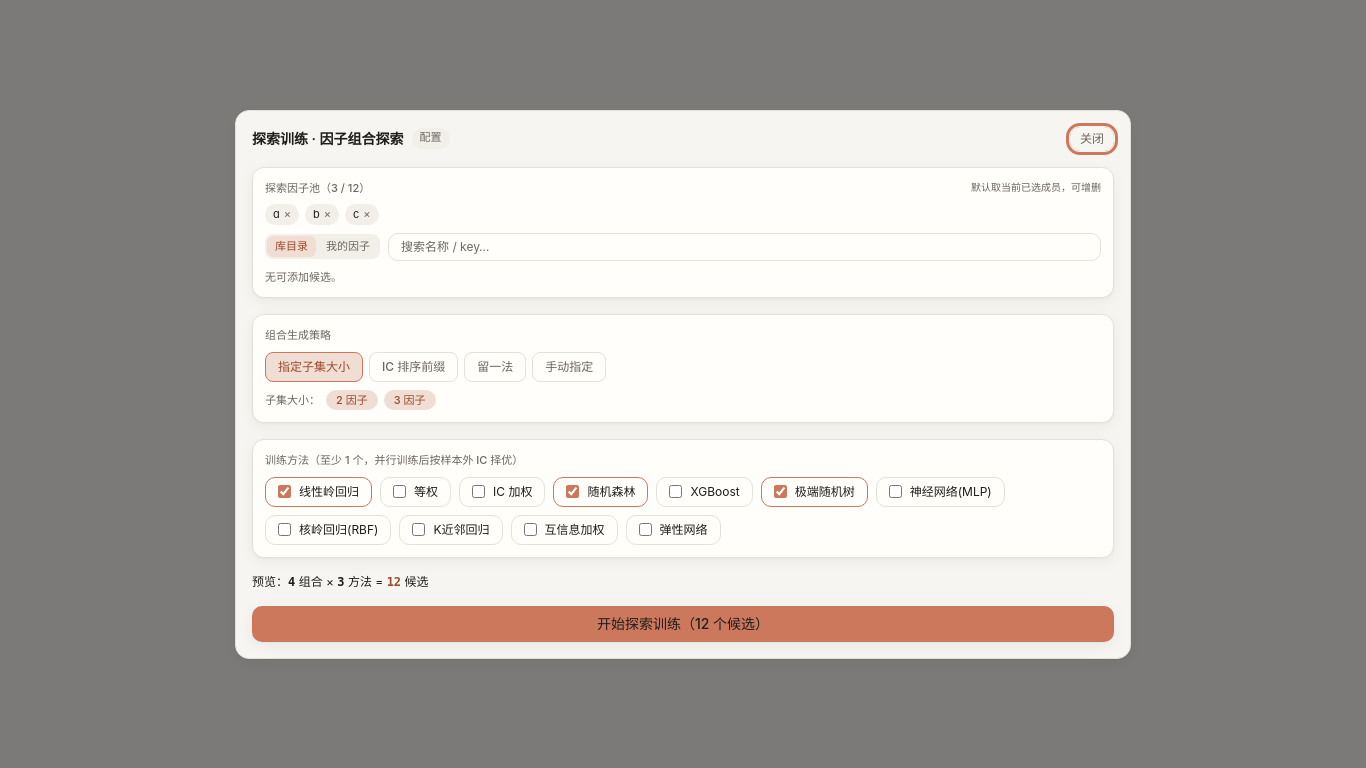
Scenario: WeightExploreModal › blocks launch when no training method is selected
This screenshot has width=1366, height=768.
Check: the button "开始探索训练（12 个候选）" is shown, box left=252, top=606, right=1114, bottom=642
Click the checkbox labelled "线性岭回归": click(284, 492) left=278, top=485, right=291, bottom=498
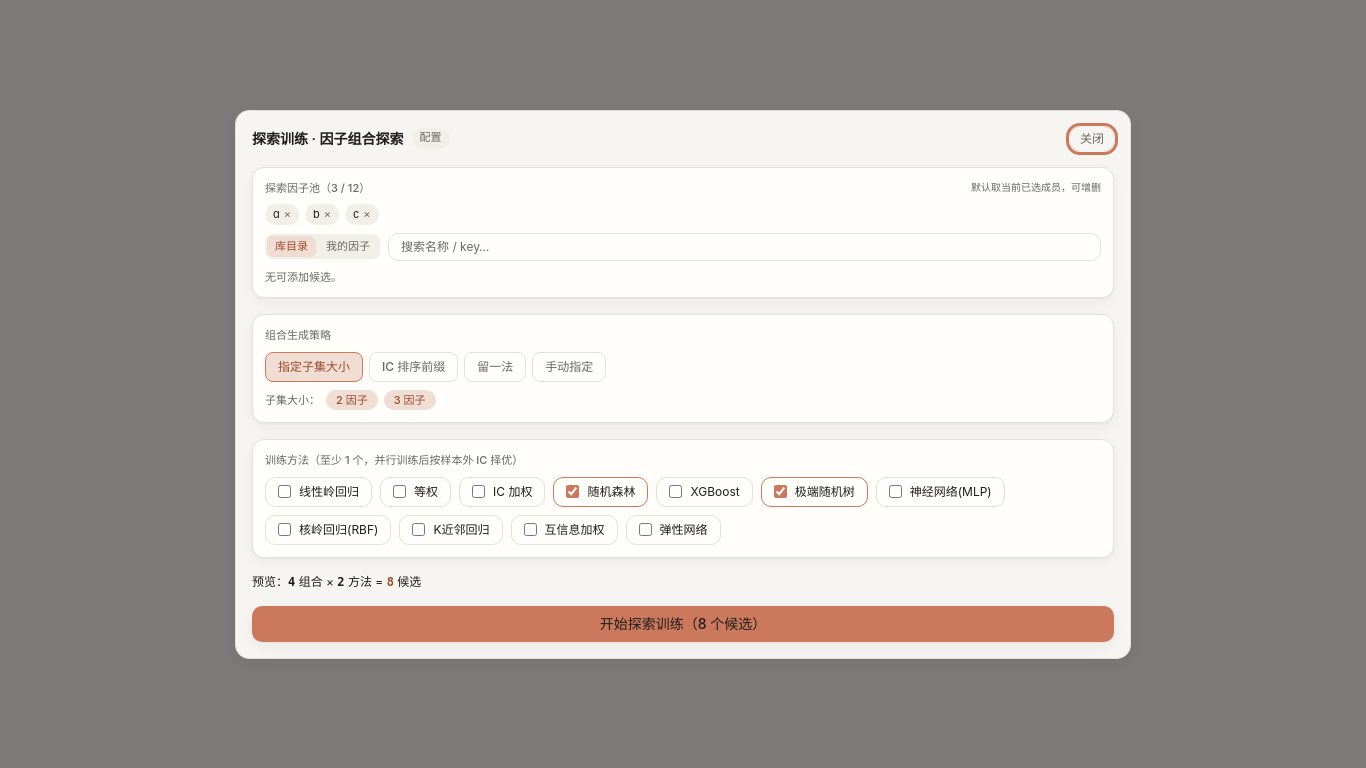
Click the checkbox labelled "随机森林": click(573, 492) left=566, top=485, right=579, bottom=498
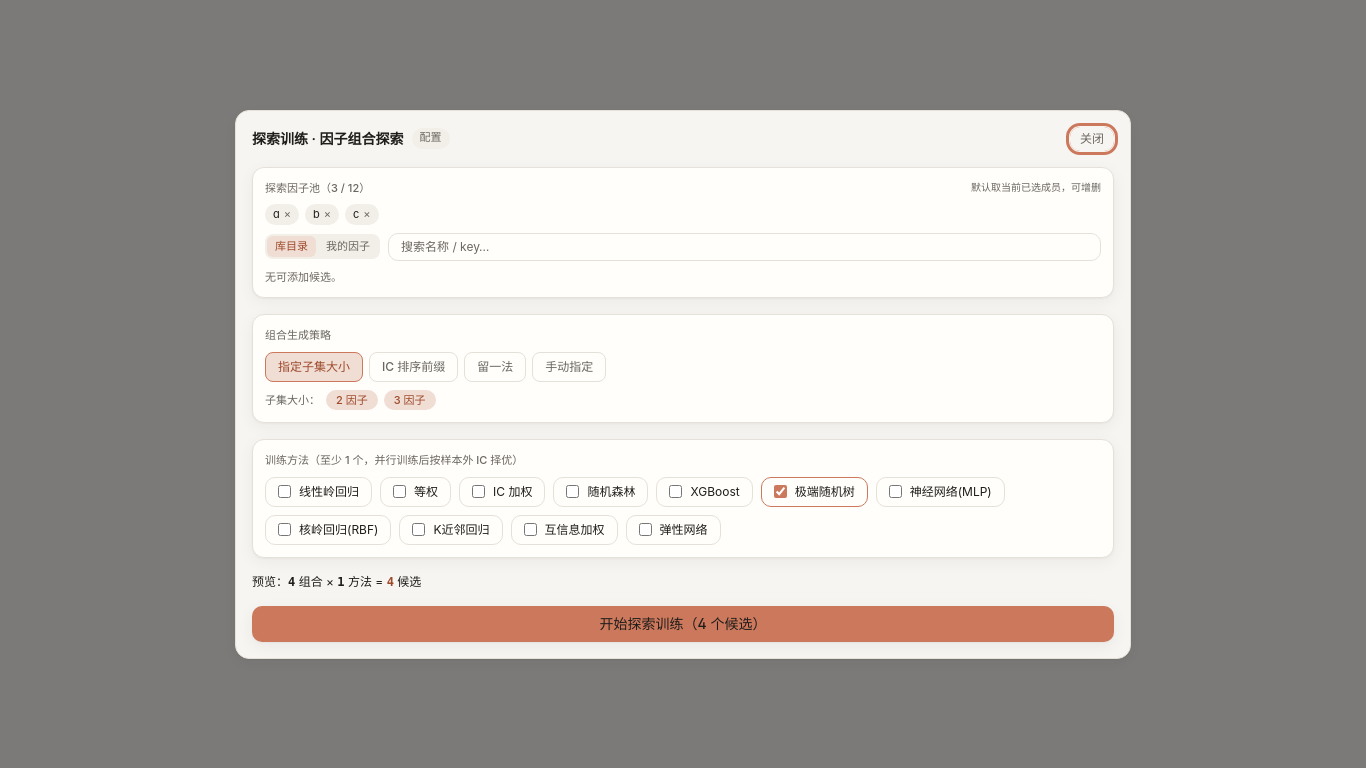
Click the checkbox labelled "极端随机树": click(780, 492) left=774, top=485, right=787, bottom=498
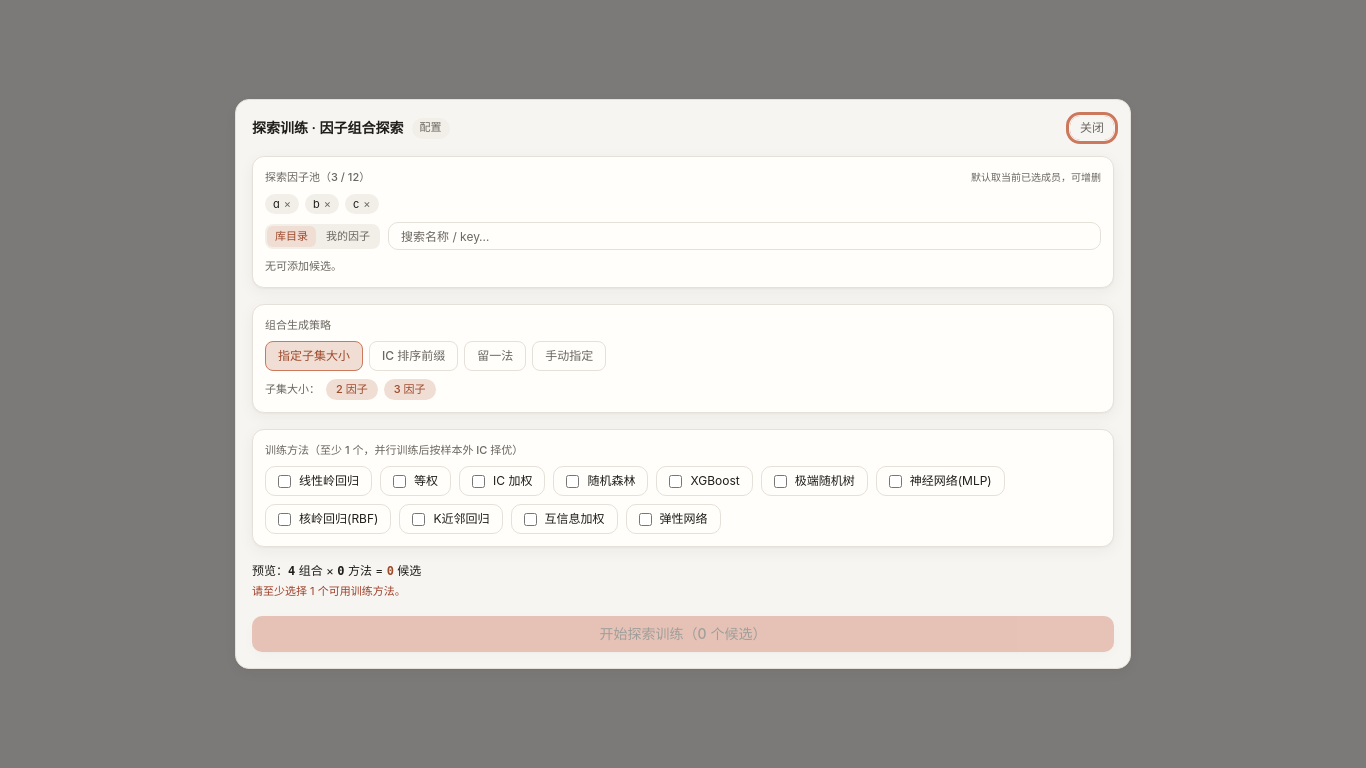
Check: the text "请至少选择 1 个可用训练方法。" is shown, box left=252, top=584, right=406, bottom=598
Check: the button "开始探索训练（0 个候选）" is disabled, box left=252, top=616, right=1114, bottom=652
